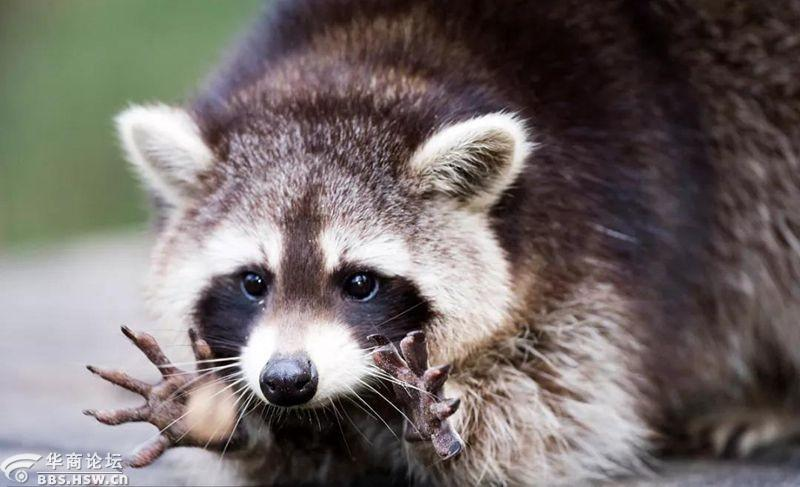raccoon: (74, 7, 800, 478)
